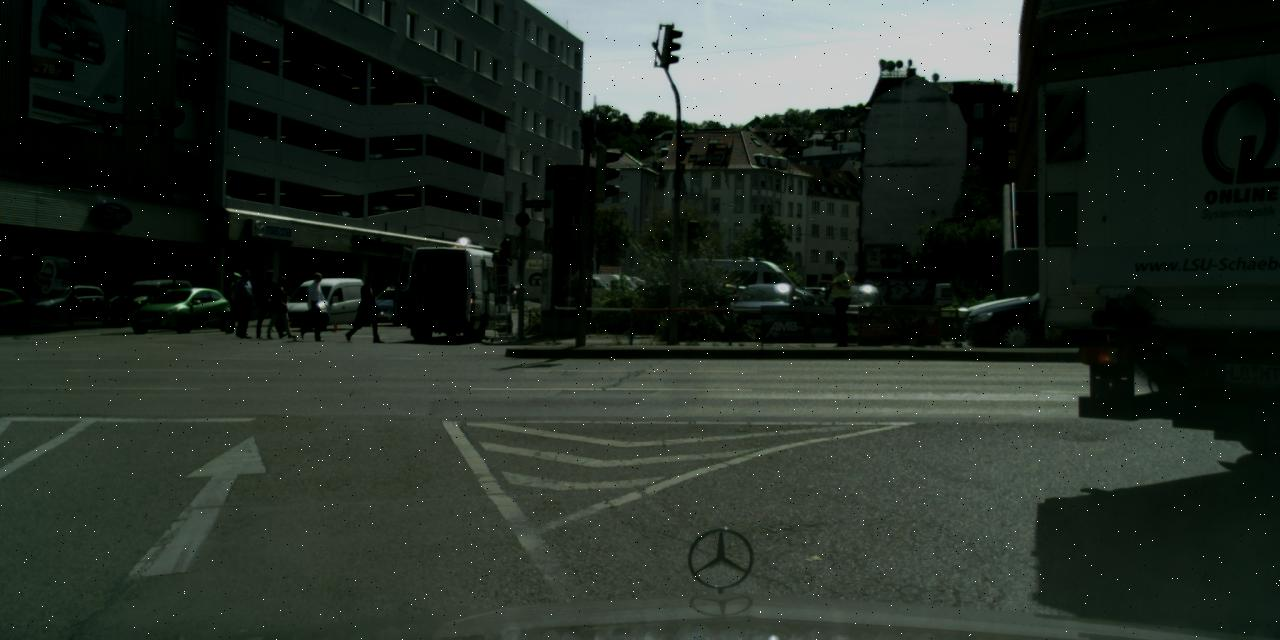ped: (823, 260, 859, 346), (230, 270, 258, 337), (300, 272, 327, 338), (255, 271, 282, 336), (352, 274, 378, 340), (491, 238, 516, 303), (268, 275, 293, 337), (221, 272, 246, 332)
